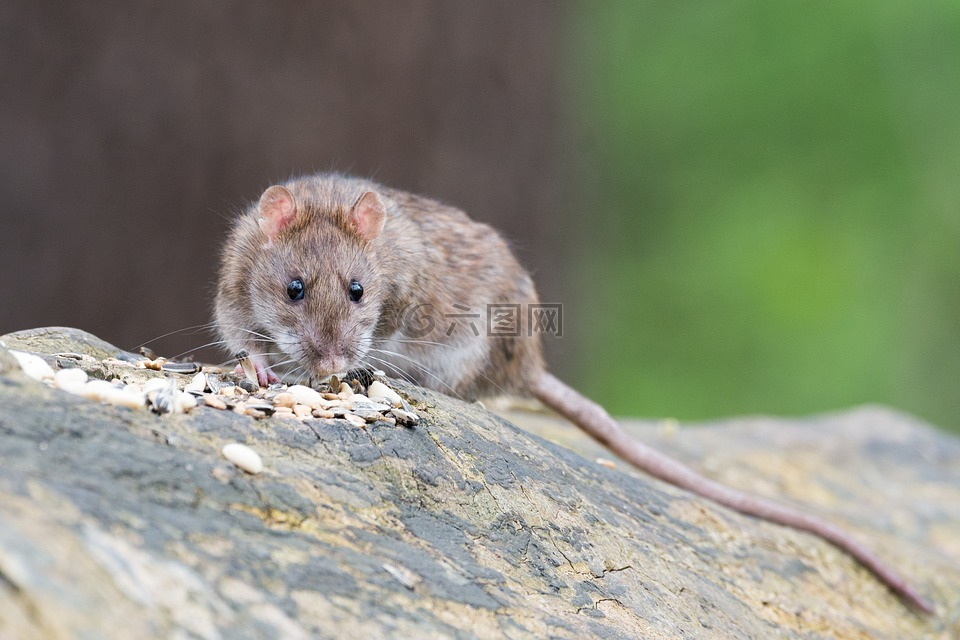mouse: (206, 153, 446, 412)
